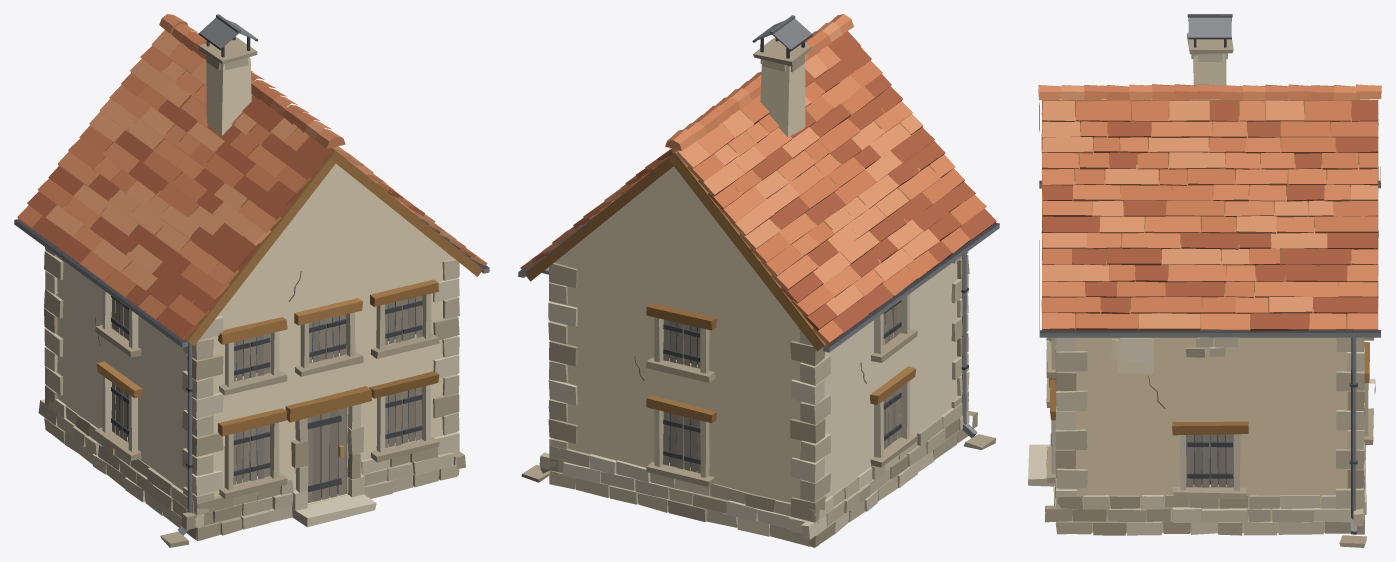
Rendered from hameau-b.glb.
3 views of the same model, side by side, from view 1: azimuth 30°, elevation 25°; view 2: azimuth 150°, elevation 25°; view 3: azimuth 270°, elevation 25° (orthographic).
Parts seen in each view (by area): view 1: hameau-b; view 2: hameau-b; view 3: hameau-b.
Boxes of the visible parts, x1,y1,x2,y2 form: hameau-b: [14, 14, 489, 547]; hameau-b: [518, 14, 999, 547]; hameau-b: [1028, 14, 1381, 547].
Bounding box in the file's own units: 7.4 × 9.76 × 7.05.
